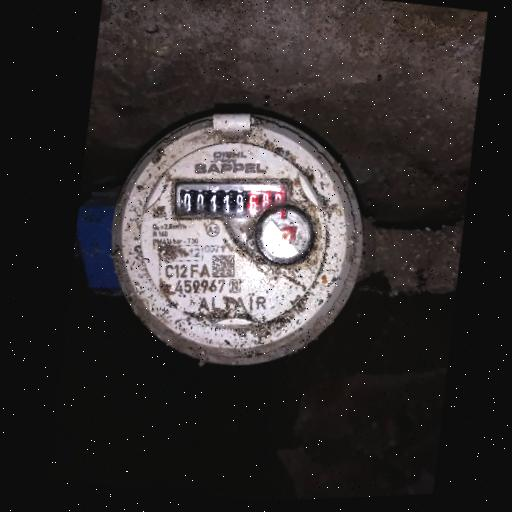0: (176, 188, 197, 215), (191, 188, 212, 214)
1: (217, 187, 237, 216), (205, 187, 225, 215)
6: (243, 187, 263, 216)
8: (257, 188, 275, 216)
9: (230, 187, 252, 216), (271, 188, 287, 207)
border_water_meter_number: (168, 162, 293, 234)
